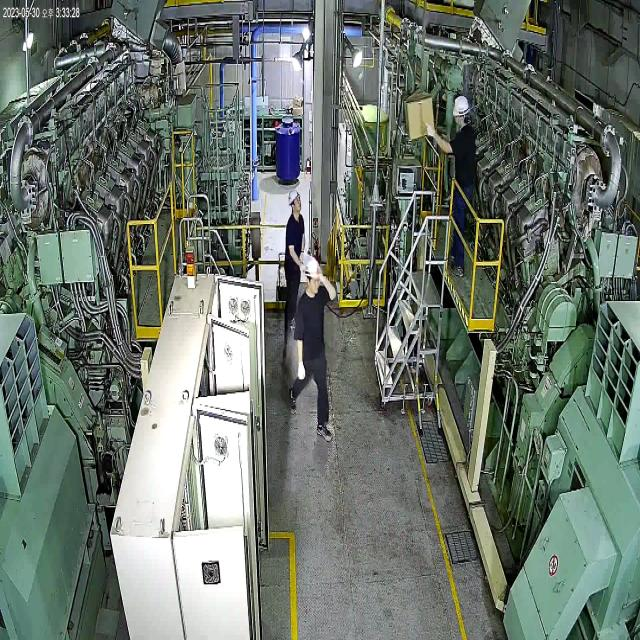Water Tank: (273, 106, 303, 188)
worker: (424, 87, 486, 290), (284, 251, 342, 447), (276, 182, 306, 346)
